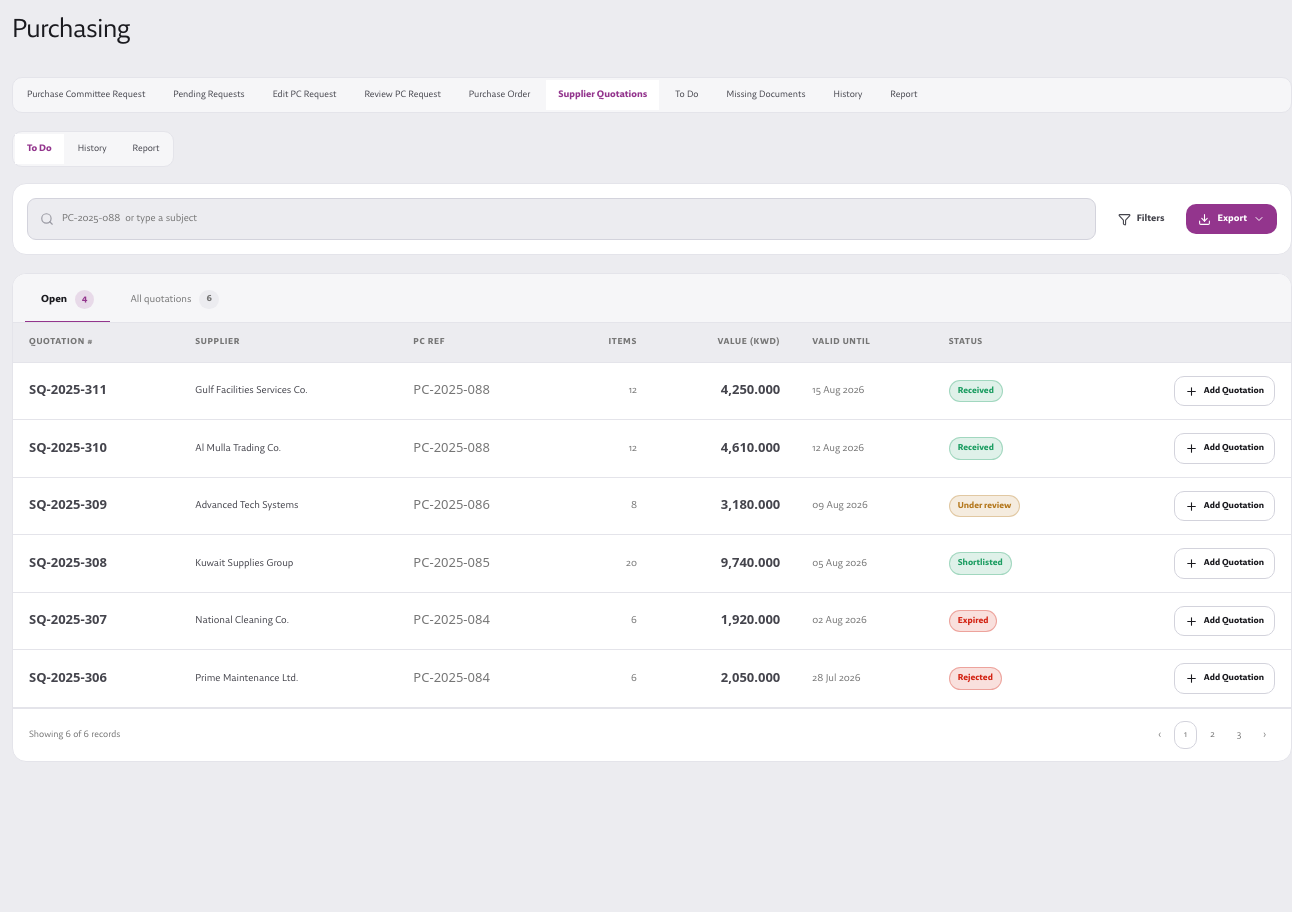
Scenario: M6.5 Supplier Quotations › renders History with inherited PO # heading and no RecordFilter
Click the button "History" at (92,149), box [66,134,118,164]
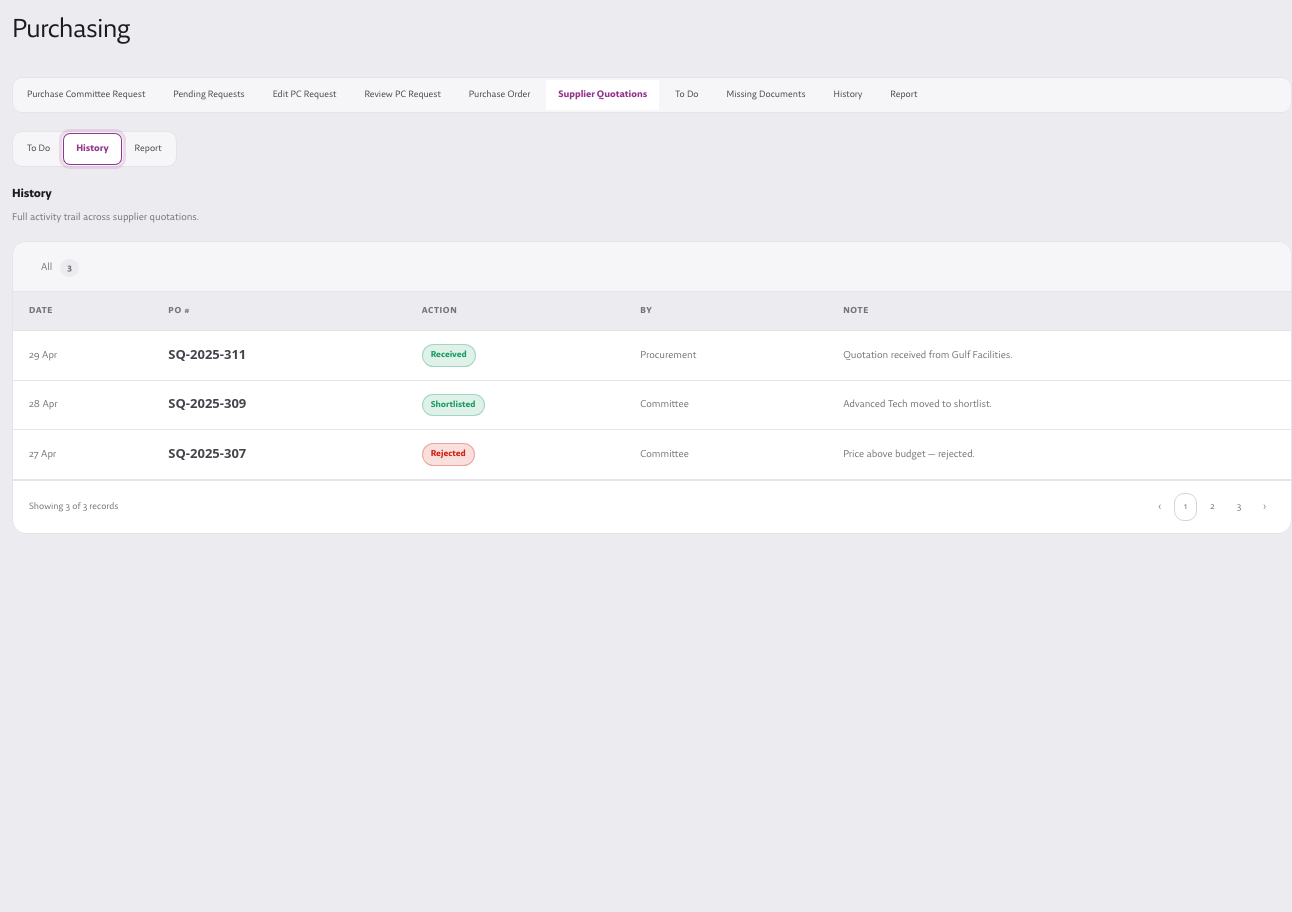
Now the tab "All 3" is shown, box [25,246,95,292]
Now the column heading "PO #" is shown, box [152,292,406,331]
Now the text "Quotation received from Gulf Facilities." is shown, box [827,331,1291,380]
